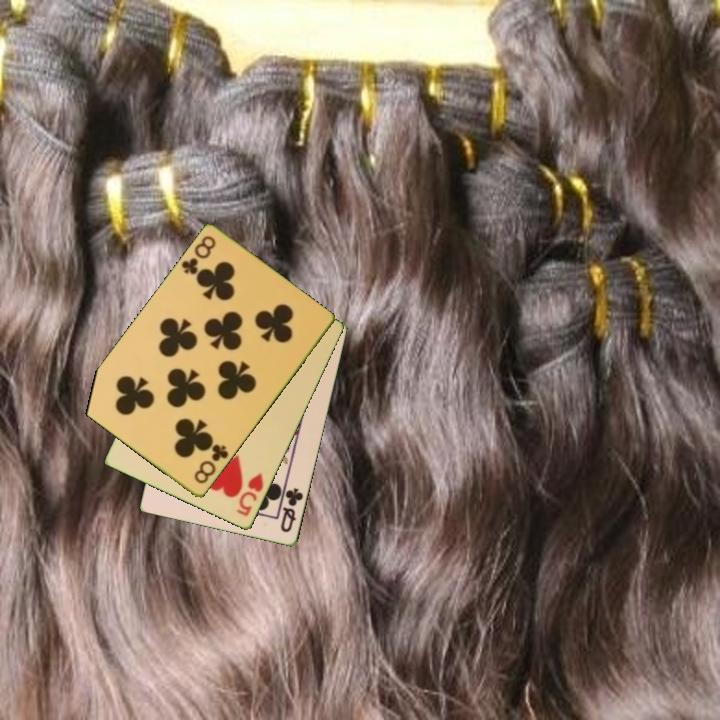5h: (233, 469, 267, 520)
8c: (190, 441, 231, 487), (178, 232, 219, 278)
Qc: (277, 485, 306, 536)
